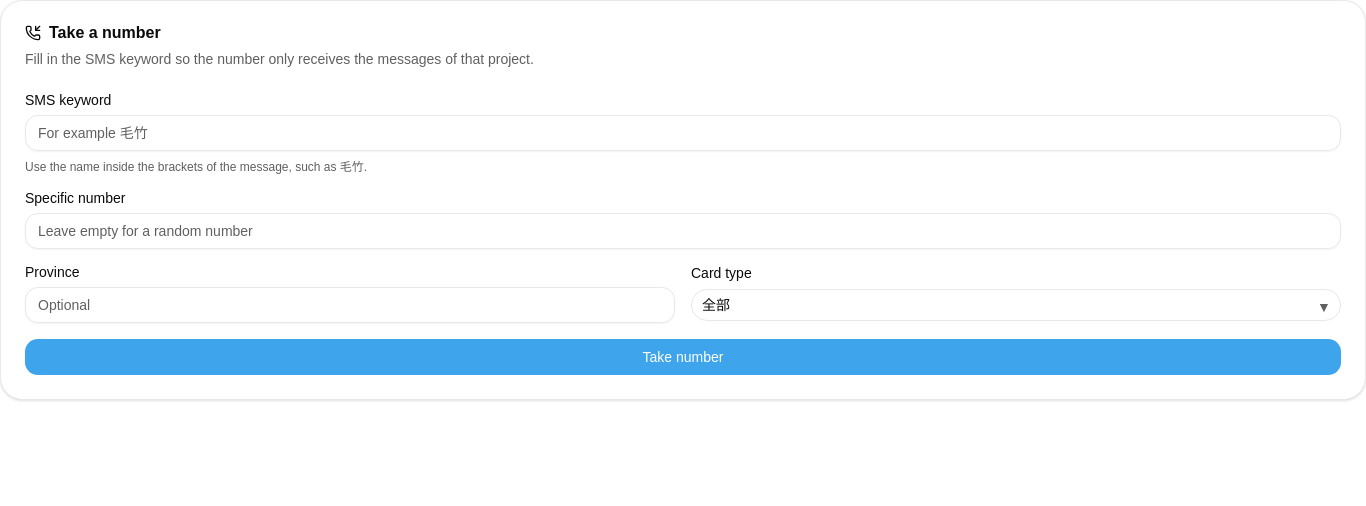
taking a number reports it back to the page
In the field labelled "SMS keyword": (683, 133) top-left (25, 115), bottom-right (1341, 151), type "毛竹"
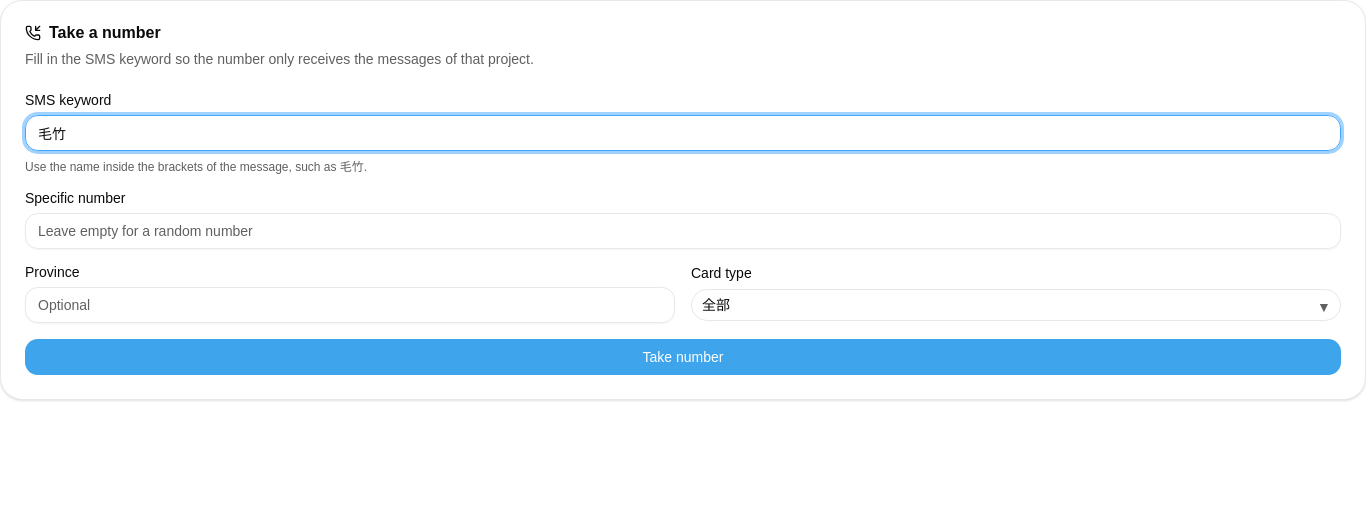
Click the button "Take number": (683, 357) top-left (25, 339), bottom-right (1341, 375)
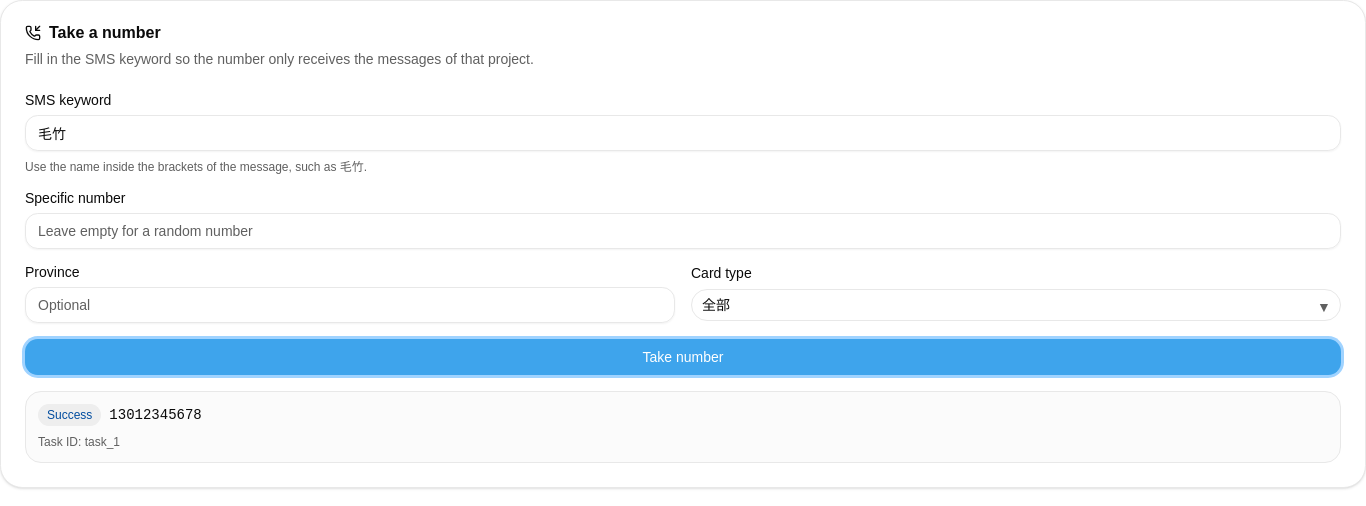
expect the text "13012345678" is shown: met, box top-left (109, 405), bottom-right (202, 425)
